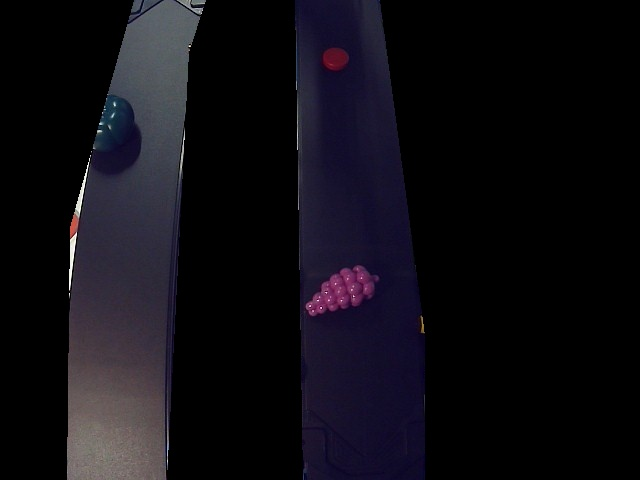Red_Circle: (321, 46, 354, 71)
Unknown: (306, 268, 385, 316), (77, 94, 137, 146)
